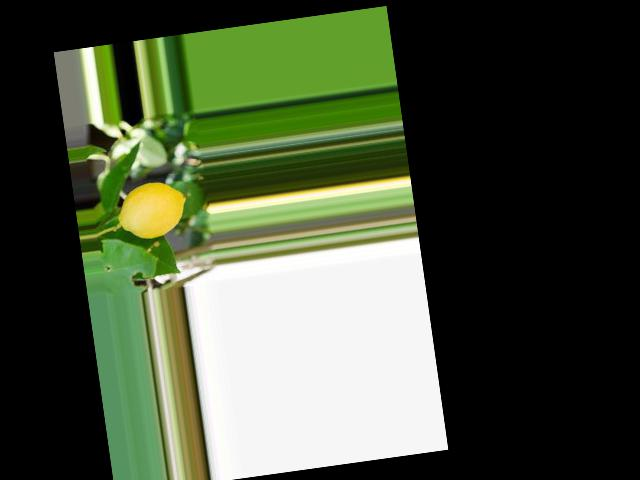lemon: (111, 172, 197, 248)
